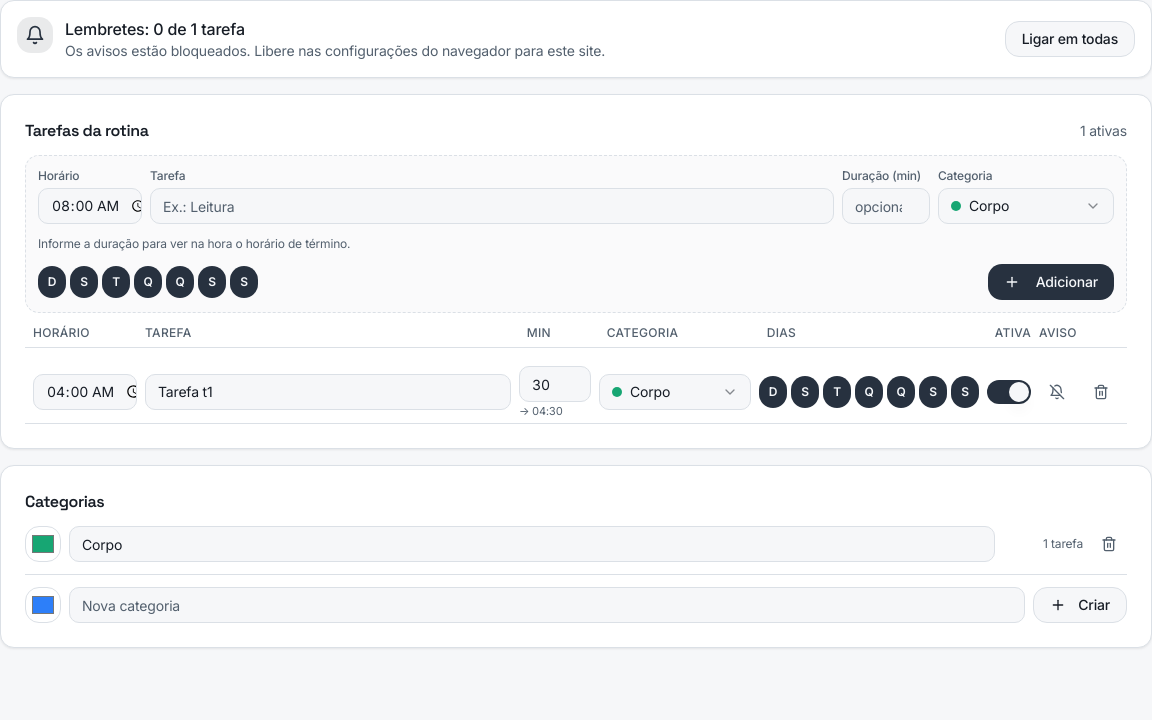
término calculado ao informar a duração › avisa quando o término passa da meia-noite: 23:50 + 20 min = 00:10 do dia seguinte
Replace the text in the time field labelled "Horário" with "23:50". click: [90, 206]
box: [38, 188, 142, 224]
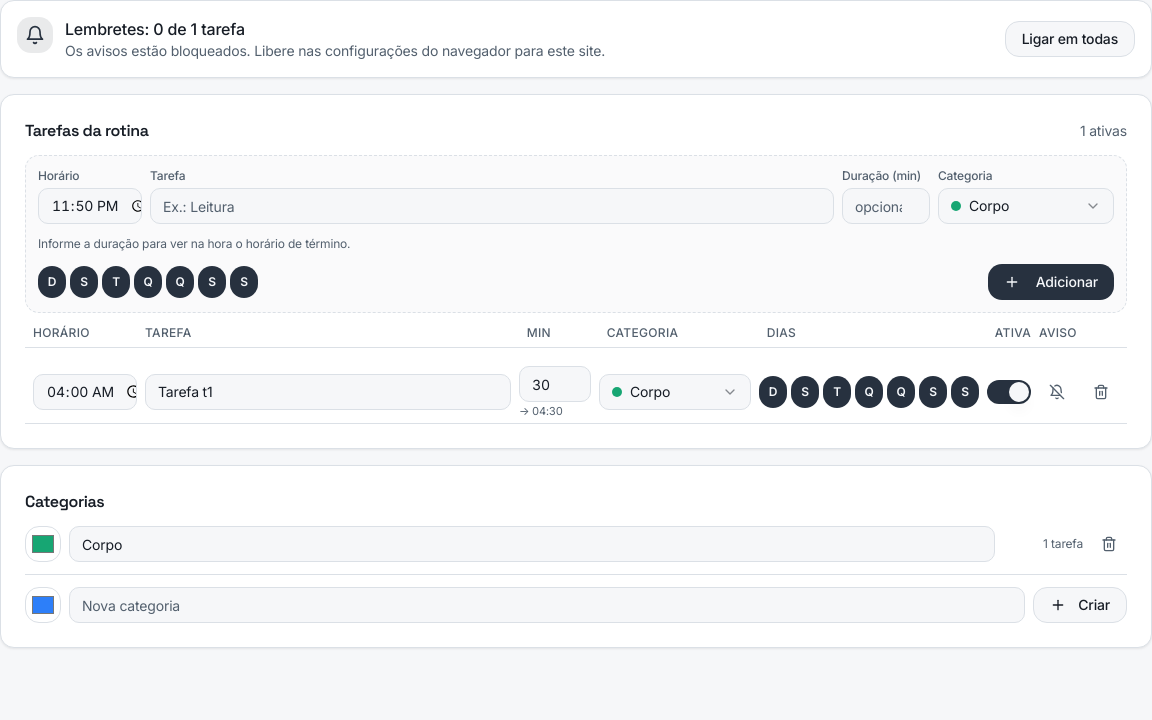
Type "20" into the number field labelled "Duração (min)". click: [886, 206]
box: [842, 188, 930, 224]
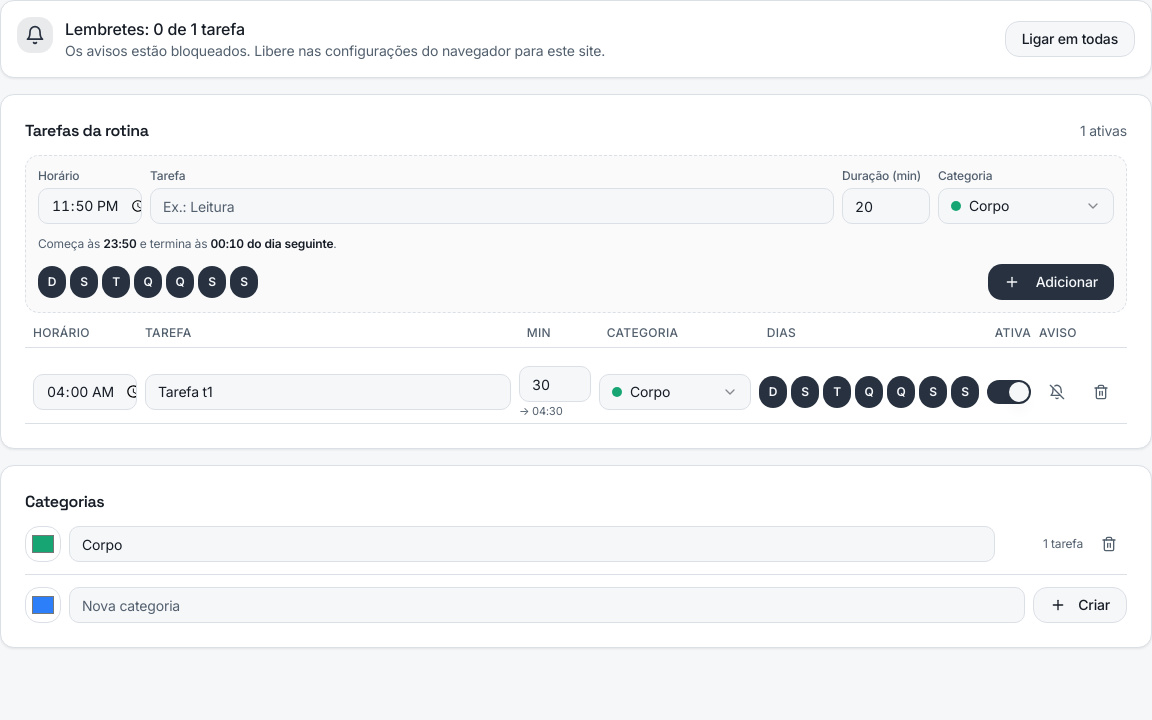
Expected: the message shows "termina às 00:10 do dia seguinte", [38, 236, 337, 251]
